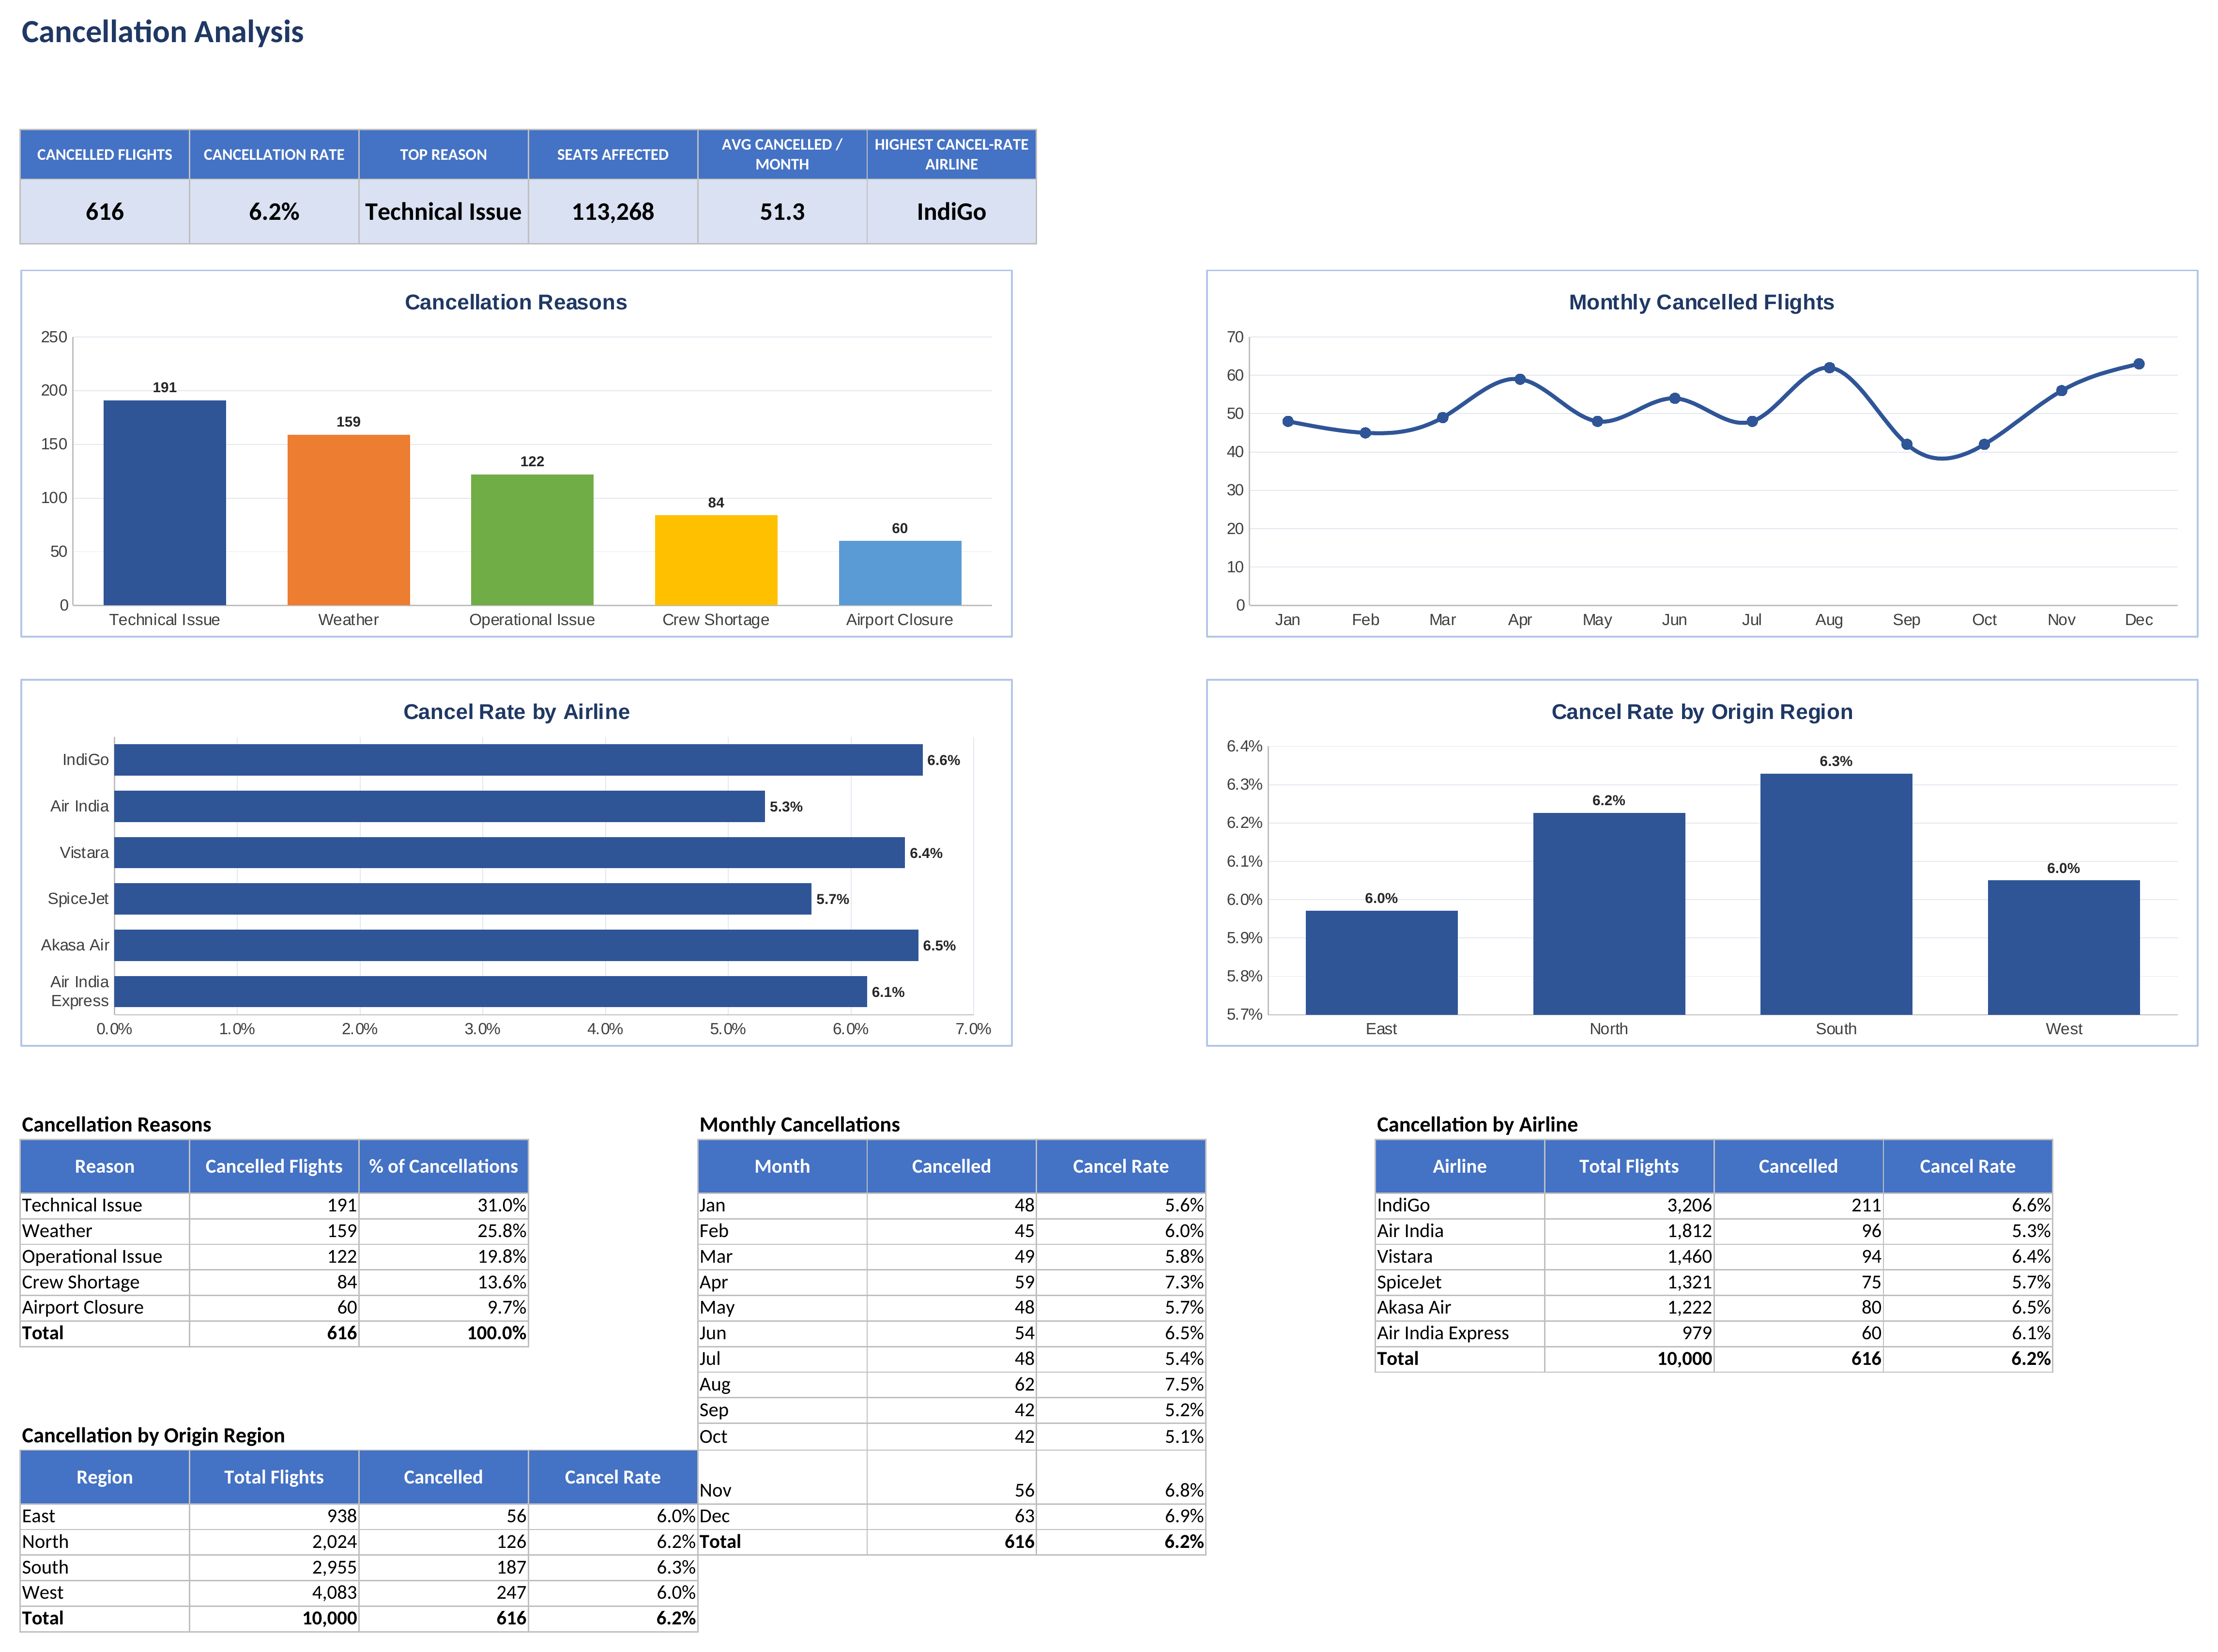

This screenshot's page, from the dashboard's own definition file:
{"tool":"powerbi","page":{"name":"Cancellation Analysis","canvas":[1280,720],"ordinal":3},"visuals":[{"type":"textbox","box":[20,8,700,56],"z":0},{"type":"slicer","fields":{"Values":["Flight_Data.Airline"]},"box":[790,14,230,46],"z":1000},{"type":"slicer","fields":{"Values":["Flight_Data.Month"]},"box":[1035,14,225,46],"z":2000},{"type":"card","fields":{"Values":["Flight_Data.Cancelled Flights"]},"box":[20,72,393.3,95],"z":3000},{"type":"card","fields":{"Values":["Flight_Data.Cancellation Rate"]},"box":[443.3,72,393.3,95],"z":4000},{"type":"card","fields":{"Values":["Flight_Data.Total Flights"]},"box":[866.7,72,393.3,95],"z":6000},{"type":"donutChart","title":"Cancellations by Reason","fields":{"Category":["Flight_Data.Cancellation_Reason"],"Y":["Flight_Data.Cancelled Flights"]},"box":[20,180,400,250],"z":7000},{"type":"clusteredBarChart","title":"Cancellation Rate by Airline","fields":{"Category":["Flight_Data.Airline"],"Y":["Flight_Data.Cancellation Rate"]},"box":[435,180,400,250],"z":8000},{"type":"lineChart","title":"Cancelled Flights by Month","fields":{"Category":["Flight_Data.Month"],"Y":["Flight_Data.Cancelled Flights"]},"box":[850,180,410,250],"z":9000},{"type":"clusteredBarChart","title":"Cancellations by Airport","fields":{"Category":["Flight_Data.Origin_Airport"],"Y":["Flight_Data.Cancelled Flights"]},"box":[20,440,610,265],"z":10000},{"type":"clusteredColumnChart","title":"Cancellation Rate by Region","fields":{"Category":["Flight_Data.Origin_Region"],"Y":["Flight_Data.Cancellation Rate"]},"box":[650,440,610,265],"z":11000}]}

Visuals, with their boxes on the page's 1280x720 design canvas (x1, y1, x2, y2). These are canvas units, not pixel positions in the 2218x1652 screenshot, which may show the page scaled, cropped or inside an application window:
textbox: left=20, top=8, right=720, bottom=64
slicer - Flight_Data.Airline: left=790, top=14, right=1020, bottom=60
slicer - Flight_Data.Month: left=1035, top=14, right=1260, bottom=60
card - Flight_Data.Cancelled Flights: left=20, top=72, right=413, bottom=167
card - Flight_Data.Cancellation Rate: left=443, top=72, right=837, bottom=167
card - Flight_Data.Total Flights: left=867, top=72, right=1260, bottom=167
"Cancellations by Reason" donutChart: left=20, top=180, right=420, bottom=430
"Cancellation Rate by Airline" clusteredBarChart: left=435, top=180, right=835, bottom=430
"Cancelled Flights by Month" lineChart: left=850, top=180, right=1260, bottom=430
"Cancellations by Airport" clusteredBarChart: left=20, top=440, right=630, bottom=705
"Cancellation Rate by Region" clusteredColumnChart: left=650, top=440, right=1260, bottom=705
